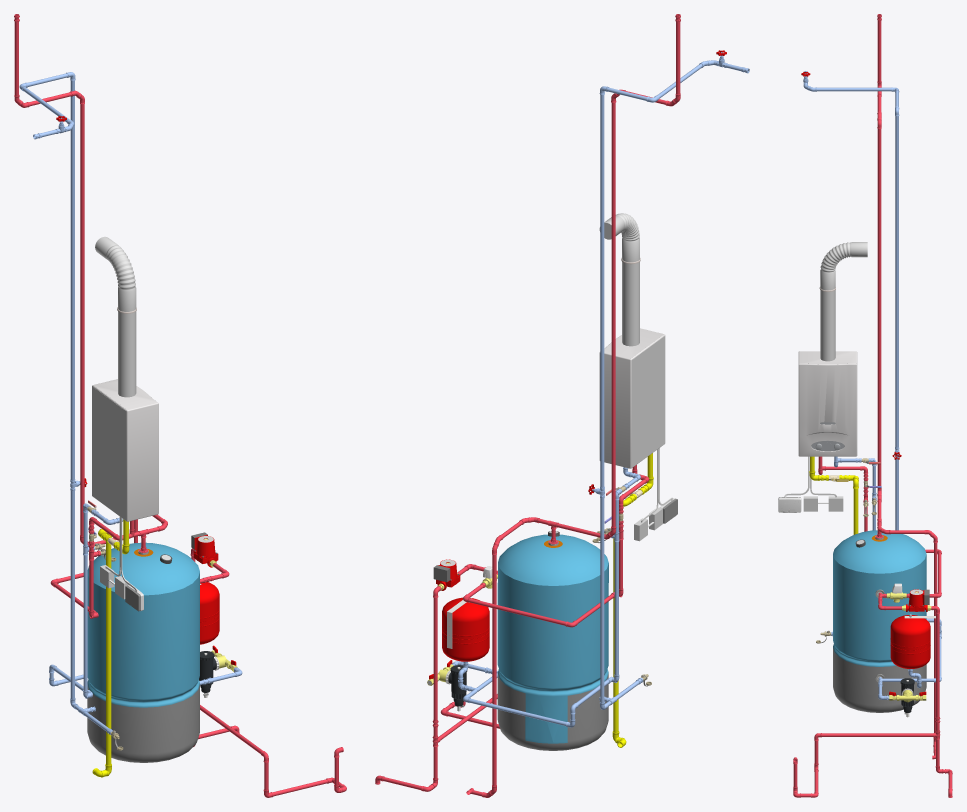
File: MEP_VDC_v4.glb
3 renders of one model, left to right at view 1: azimuth 30°, elevation 25°; view 2: azimuth 150°, elevation 25°; view 3: azimuth 270°, elevation 25°, orthographic. The views are drawn at different scales.
Parts seen in each view (by area): view 1: Geom3D (×6), Geom3D_VBO_PIPE_MET_3D#3 (×5), Geom3D_OD=91.0 mm ID=85.0 mm; view 2: Geom3D (×6), Geom3D_VBO_PIPE_MET_3D#3 (×5), Geom3D_OD=91.0 mm ID=85.0 mm; view 3: Geom3D (×6), Geom3D_VBO_PIPE_MET_3D#3 (×6), Geom3D_OD=91.0 mm ID=85.0 mm.
Boxes of the visible parts, x1,y1,x2,y2 form: Geom3D (×6): [87, 236, 219, 762]; Geom3D_VBO_PIPE_MET_3D#3 (×5): [70, 81, 111, 765]; Geom3D_OD=91.0 mm ID=85.0 mm: [118, 311, 136, 397]; Geom3D (×6): [442, 213, 665, 750]; Geom3D_VBO_PIPE_MET_3D#3 (×5): [492, 95, 618, 786]; Geom3D_OD=91.0 mm ID=85.0 mm: [622, 262, 639, 346]; Geom3D (×6): [778, 242, 930, 712]; Geom3D_VBO_PIPE_MET_3D#3 (×6): [817, 87, 939, 737]; Geom3D_OD=91.0 mm ID=85.0 mm: [820, 290, 835, 361].
Size of the model in its own units: 1.76 by 4.45 by 1.04.
